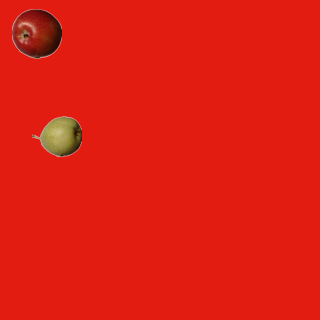Apple Braeburn: (11, 8, 61, 58)
Pear: (31, 111, 81, 161)
